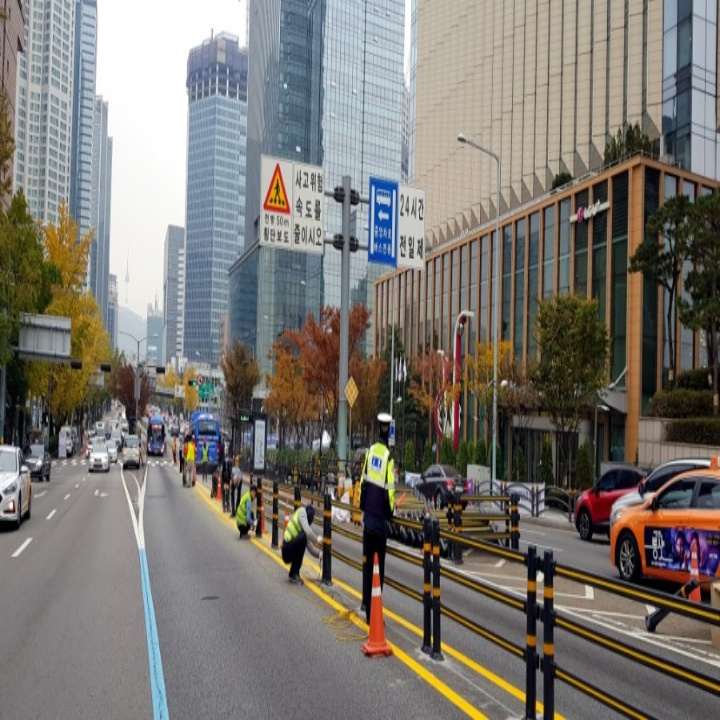bus: (374, 186, 393, 211)
cross: (264, 177, 288, 206)
